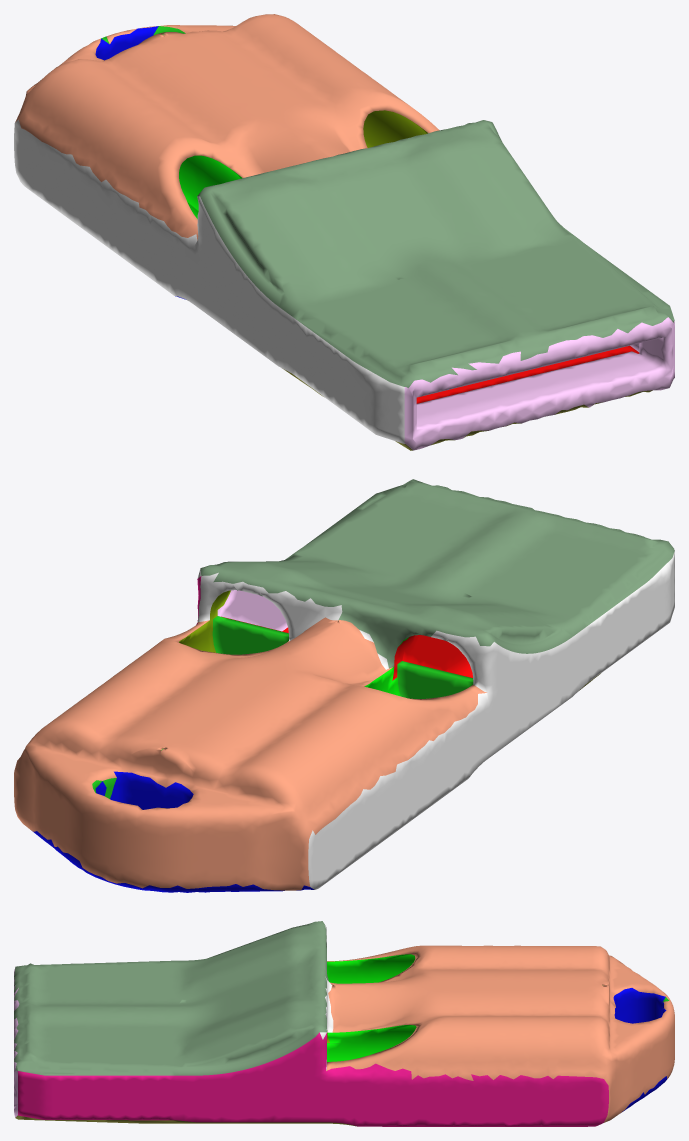
Rendered from model_63_segmented_new.obj.
3 views of the same model, one above another, from view 1: azimuth 30°, elevation 25°; view 2: azimuth 150°, elevation 25°; view 3: azimuth 270°, elevation 25° (orthographic). The views are drawn at different scales.
Size of the model in its own units: 22.23 by 8.95 by 55.42.
